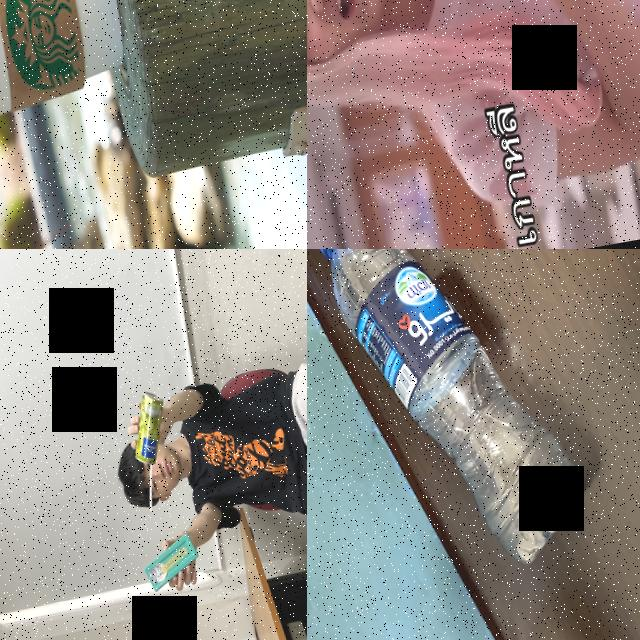bottle: (307, 249, 602, 593)
can: (124, 387, 174, 468)
cup: (0, 0, 135, 132)
